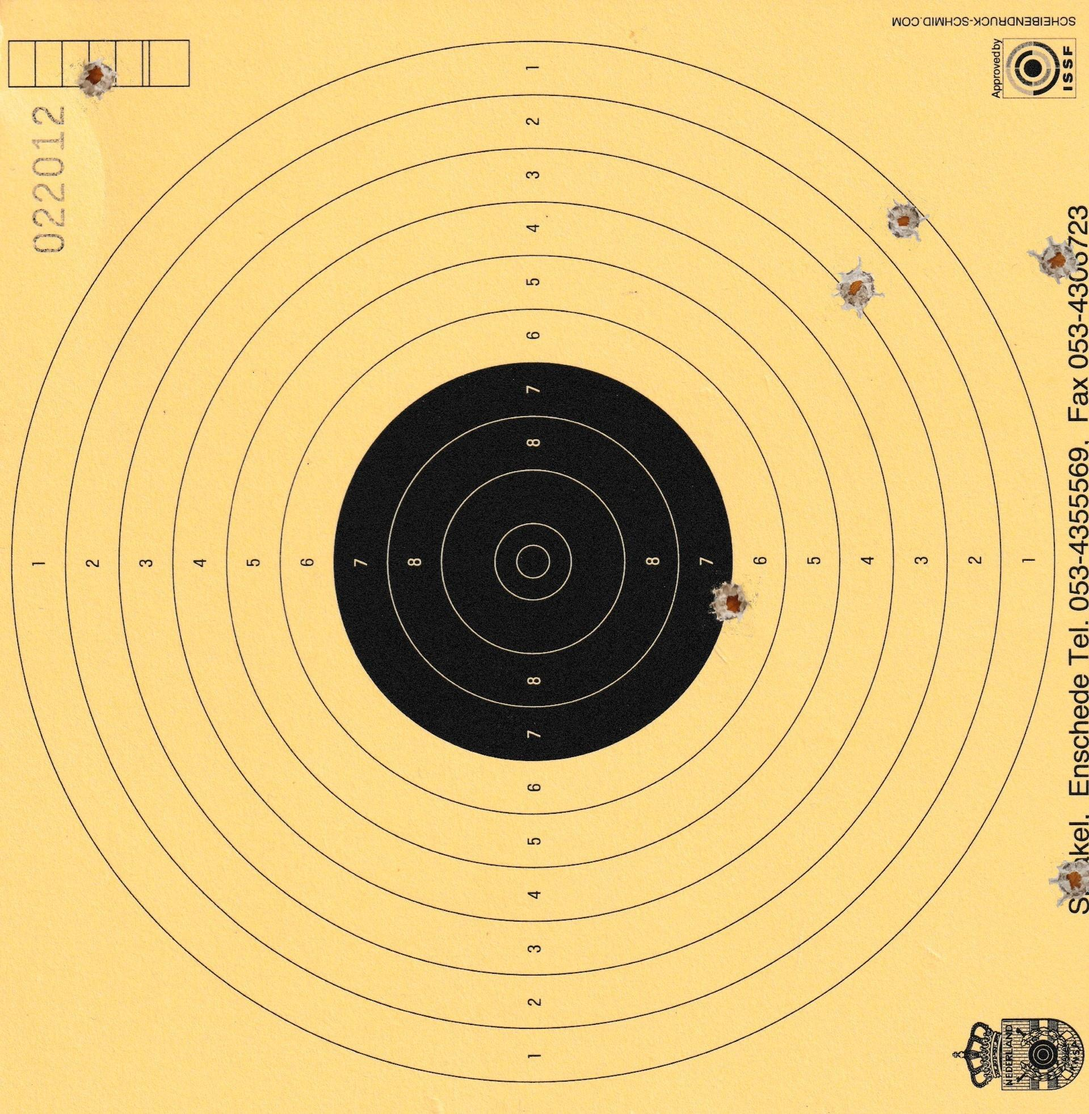hole: (829, 257, 891, 319), (1028, 229, 1083, 285), (878, 195, 934, 246), (1042, 851, 1089, 911), (705, 578, 756, 629), (70, 57, 121, 100)
